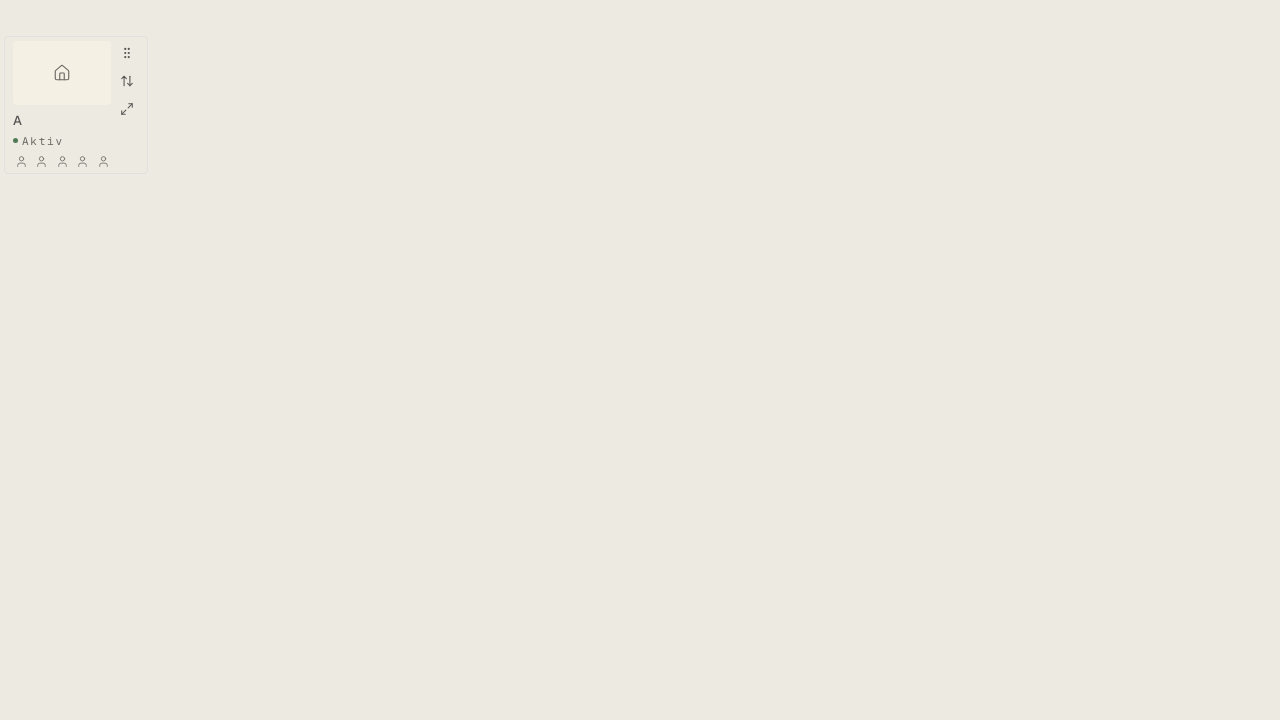
Test: ListingMatrix › preserves compact preview presentation and dismissal without elevation
The image size is (1280, 720).
Click the button named "Vorschau zu A".
click(127, 109)  # box [115,97,139,121]
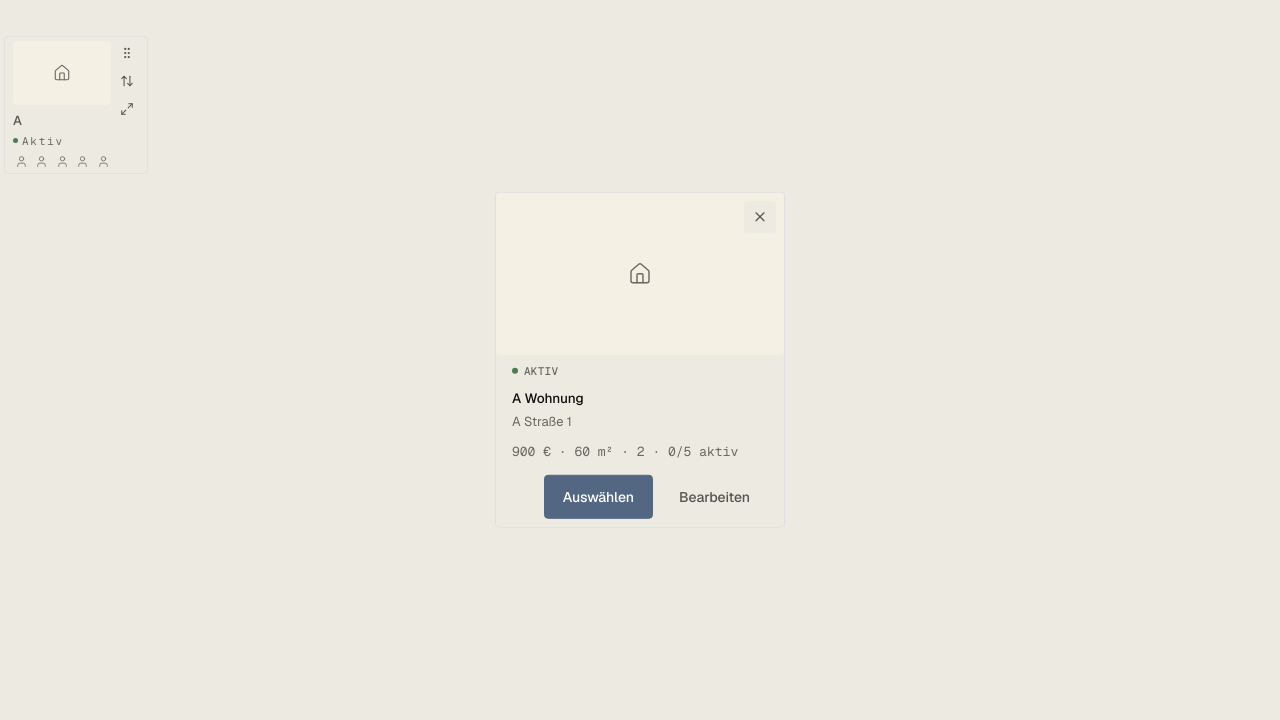
Press Escape
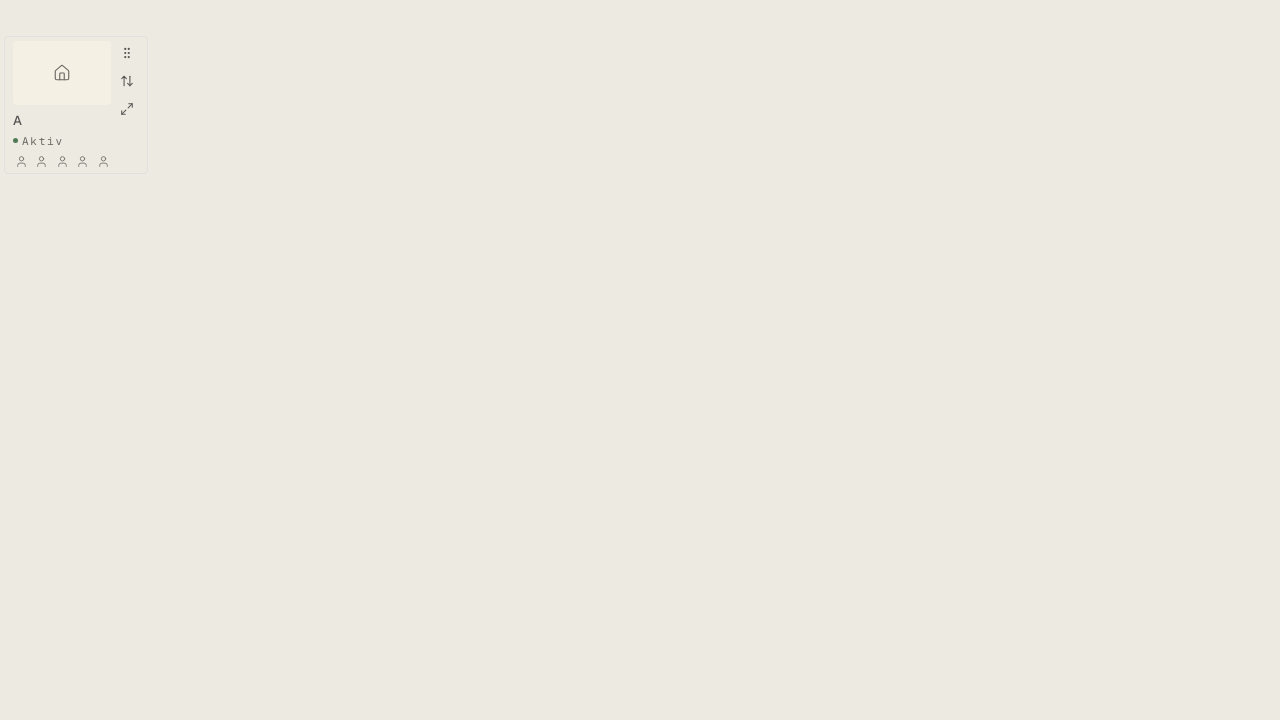
Now the dialog is gone
